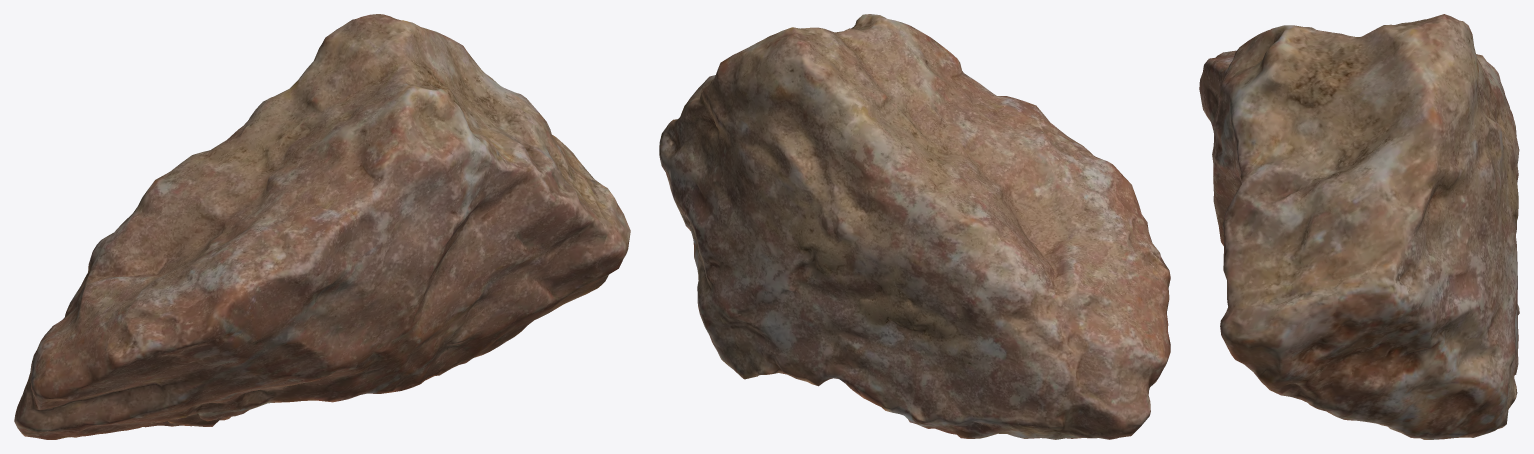
The model's file is limex-core.glb.
3 renders of one model, left to right at view 1: azimuth 30°, elevation 25°; view 2: azimuth 150°, elevation 25°; view 3: azimuth 270°, elevation 25°, orthographic. The views are drawn at different scales.
Parts seen in each view (by area): view 1: Node; view 2: Node; view 3: Node.
Part boxes in pixels (box(x1,y1,x2,y2)): Node: box(14, 14, 630, 439); Node: box(659, 14, 1170, 439); Node: box(1199, 14, 1519, 439).
Bounding box in the file's own units: 1.07 × 0.6798 × 0.4812.
Materials: 1 (1 with a texture image).
